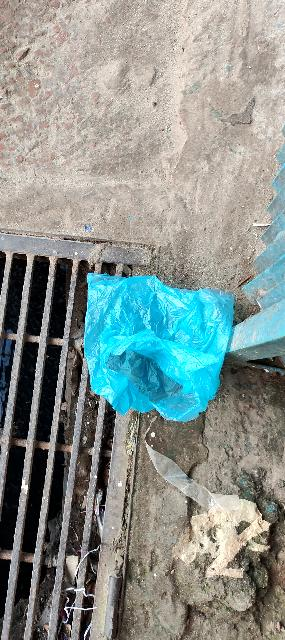polythene: (80, 269, 236, 420)
